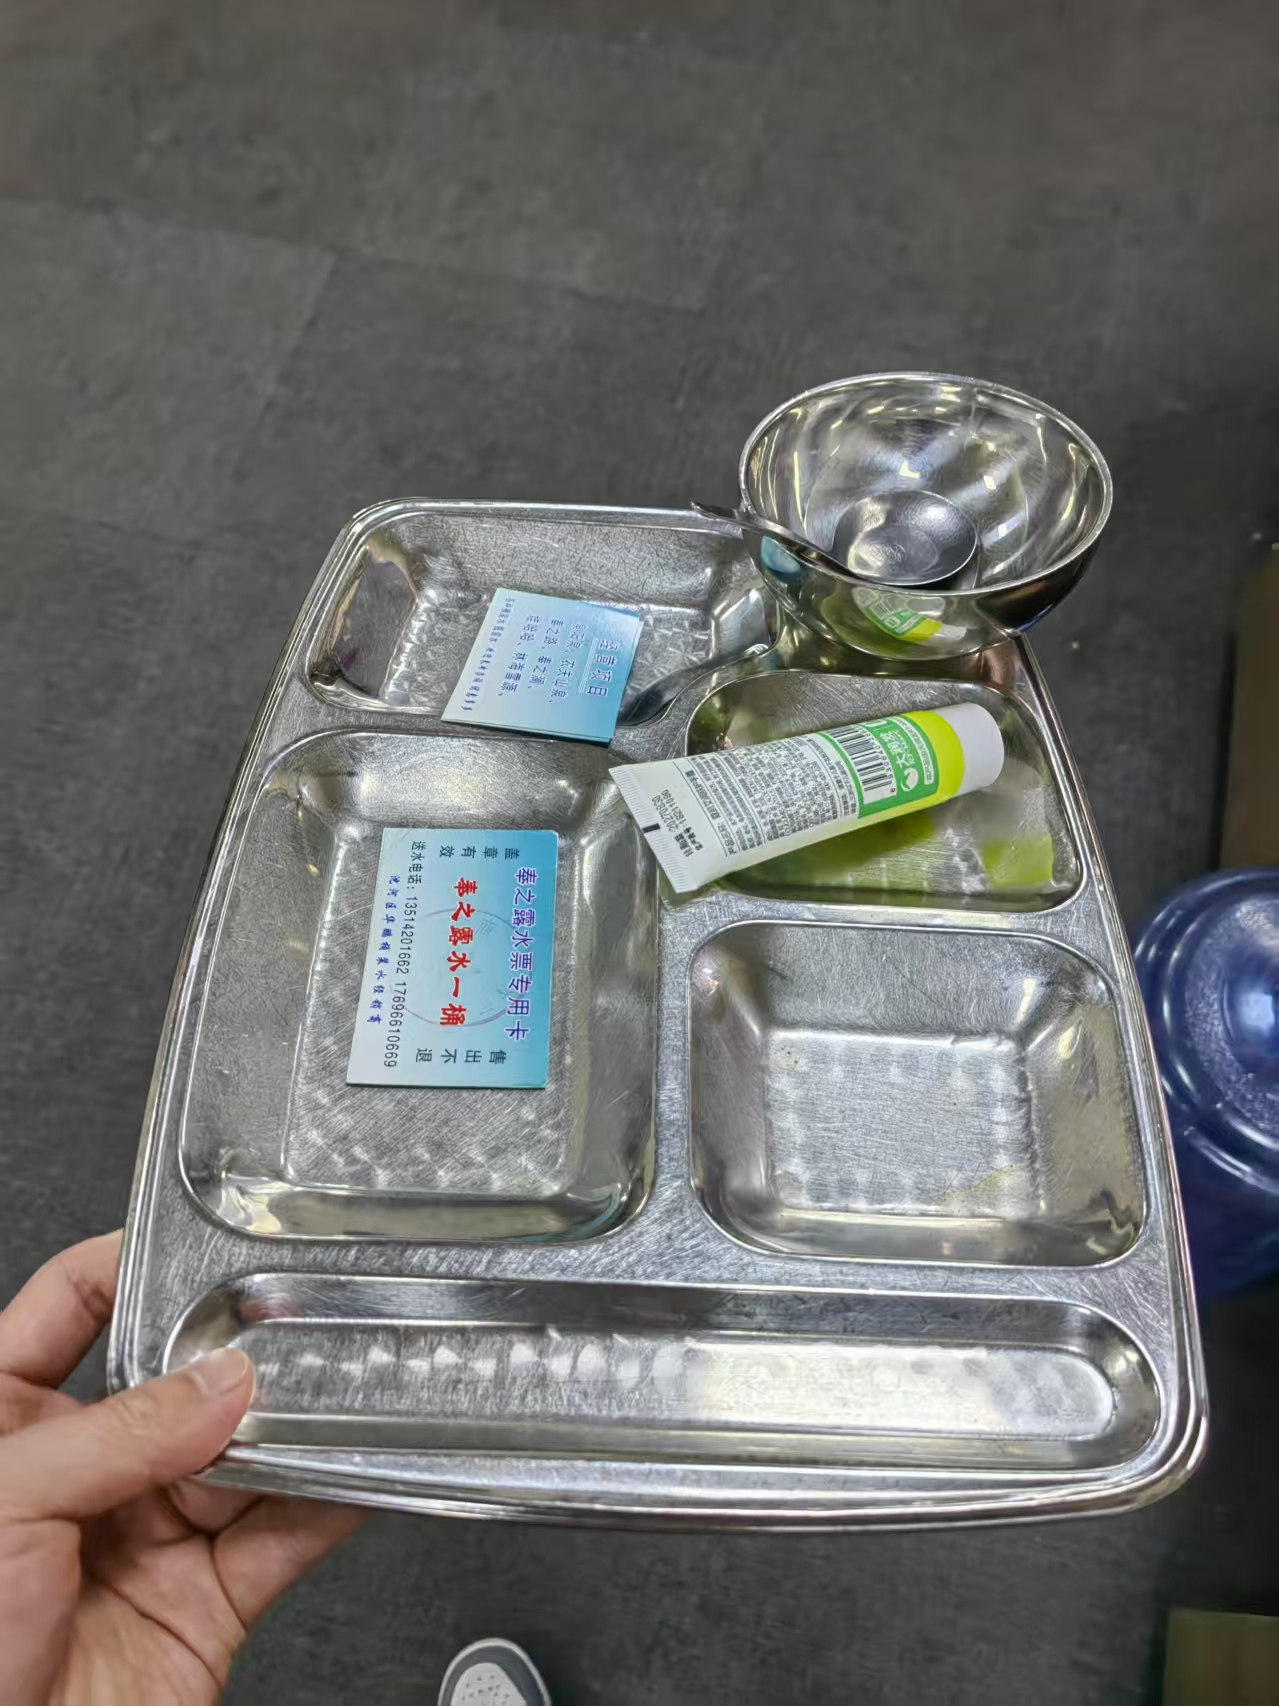mild: (346, 588, 1008, 1093)
plate: (103, 495, 1213, 1531)
